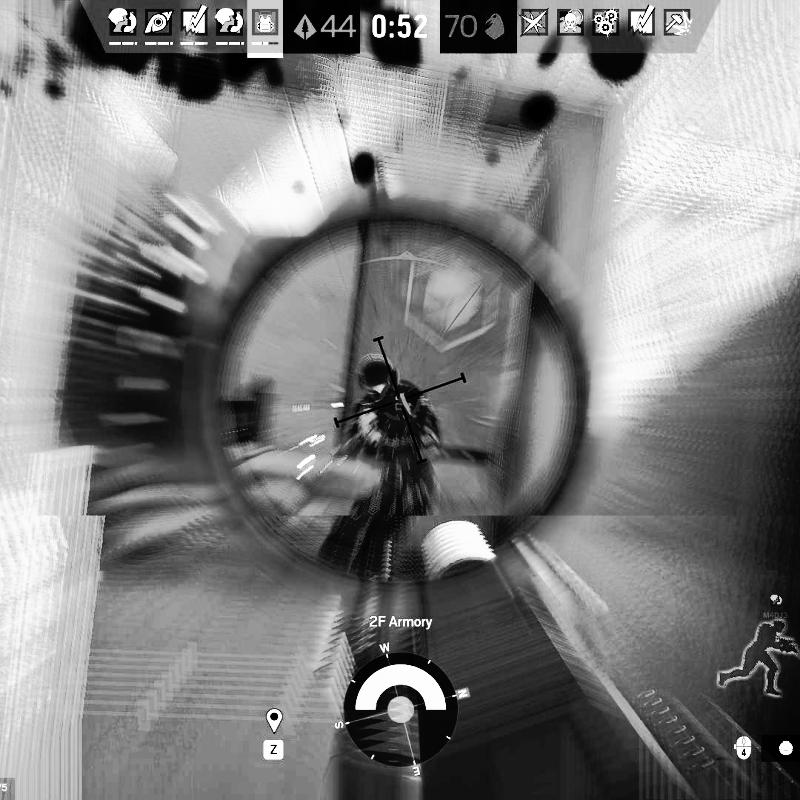Character: (338, 356, 444, 521)
Friend_label: (757, 591, 793, 623)
Head: (356, 358, 395, 402)
